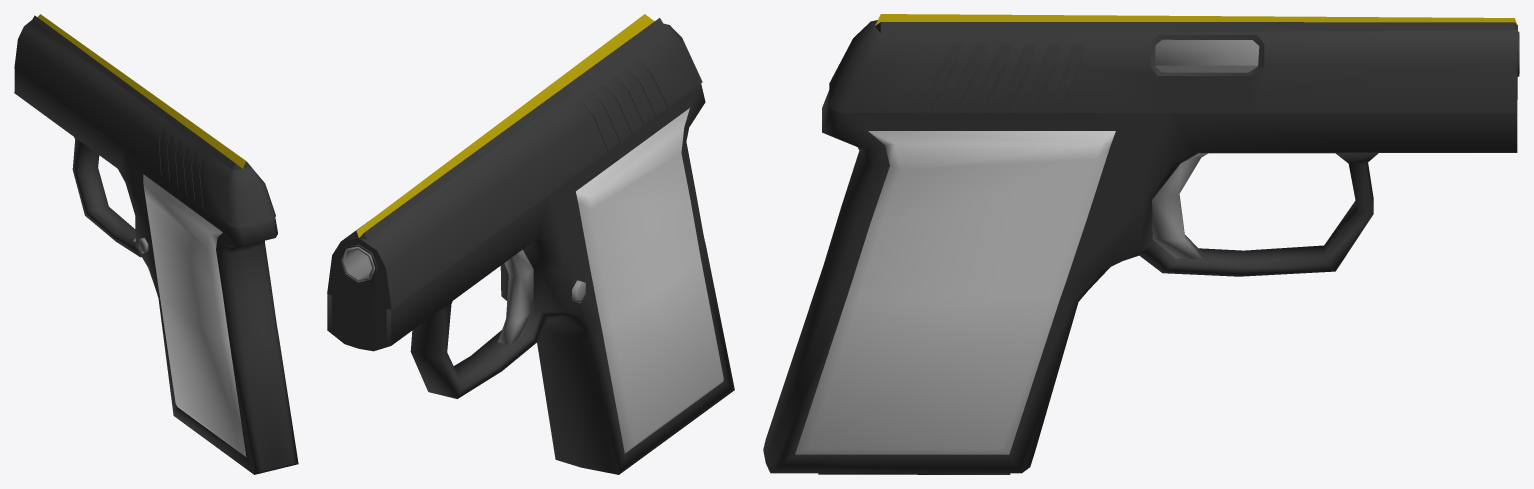
The model's file is babypistol.fbx.
3 renders of one model, left to right at view 1: azimuth 30°, elevation 25°; view 2: azimuth 150°, elevation 25°; view 3: azimuth 270°, elevation 25°, orthographic. The views are drawn at different scales.
Visible parts, largest first — view 1: Frame, slide; view 2: Frame, slide, trigger; view 3: Frame, slide, trigger.
Boxes of the visible parts, bbox=[...] form: Frame: bbox=[14, 69, 298, 474]; slide: bbox=[14, 14, 275, 228]; Frame: bbox=[327, 83, 734, 474]; slide: bbox=[327, 14, 702, 348]; trigger: bbox=[498, 249, 533, 345]; Frame: bbox=[763, 34, 1519, 473]; slide: bbox=[829, 14, 1519, 112]; trigger: bbox=[1152, 153, 1207, 259].
Bounding box in the file's own units: 3.63 × 28.52 × 18.4.
